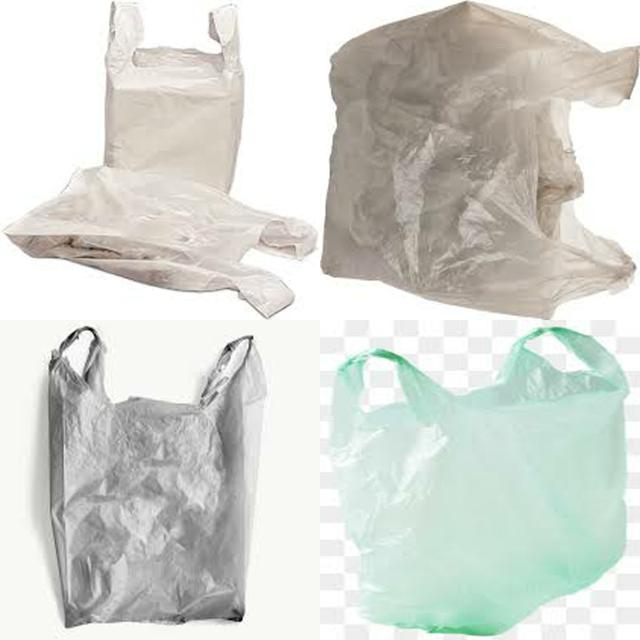Single-layer Plastic: (321, 2, 640, 319), (331, 328, 628, 635), (49, 328, 266, 626), (5, 166, 315, 318), (104, 2, 244, 192)
